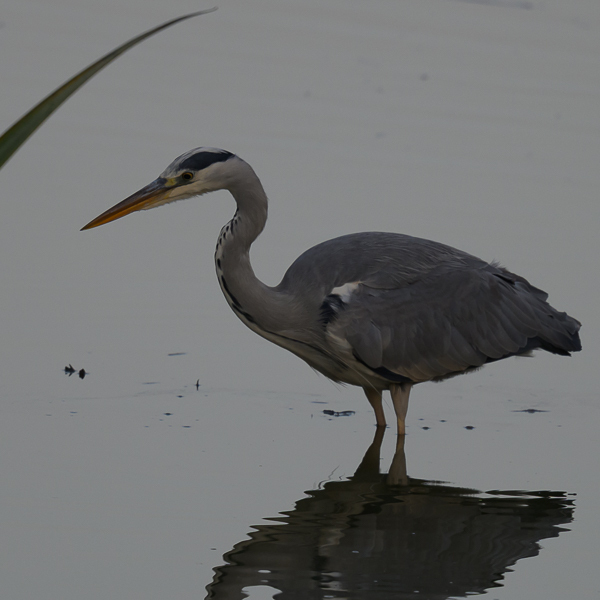heron: (80, 144, 584, 438)
